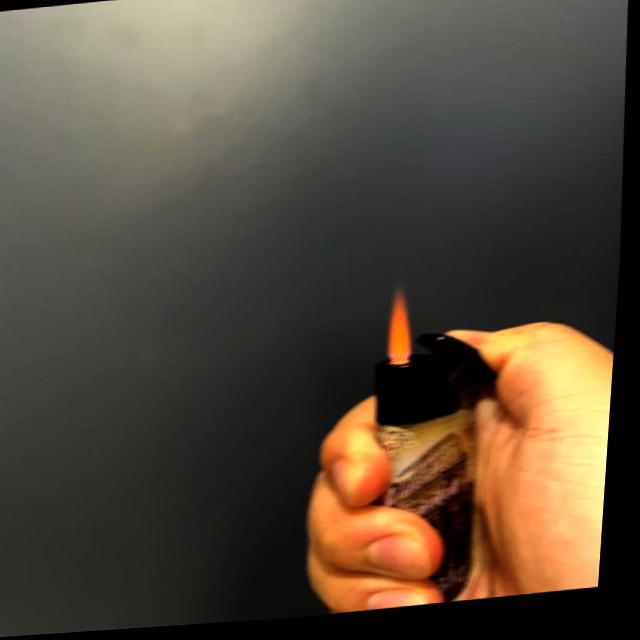helmet: (383, 293, 426, 371)
